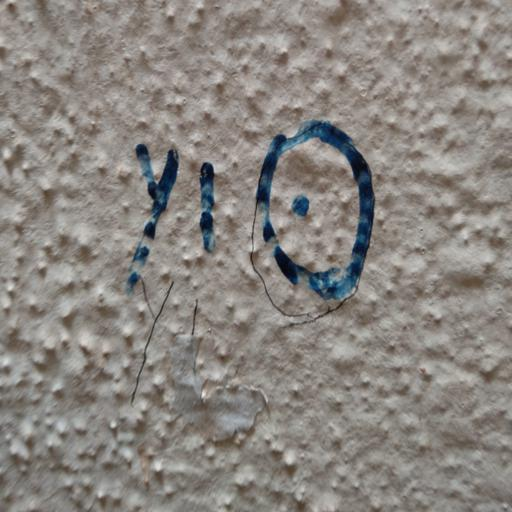stain: (116, 115, 389, 324), (101, 271, 264, 439)
